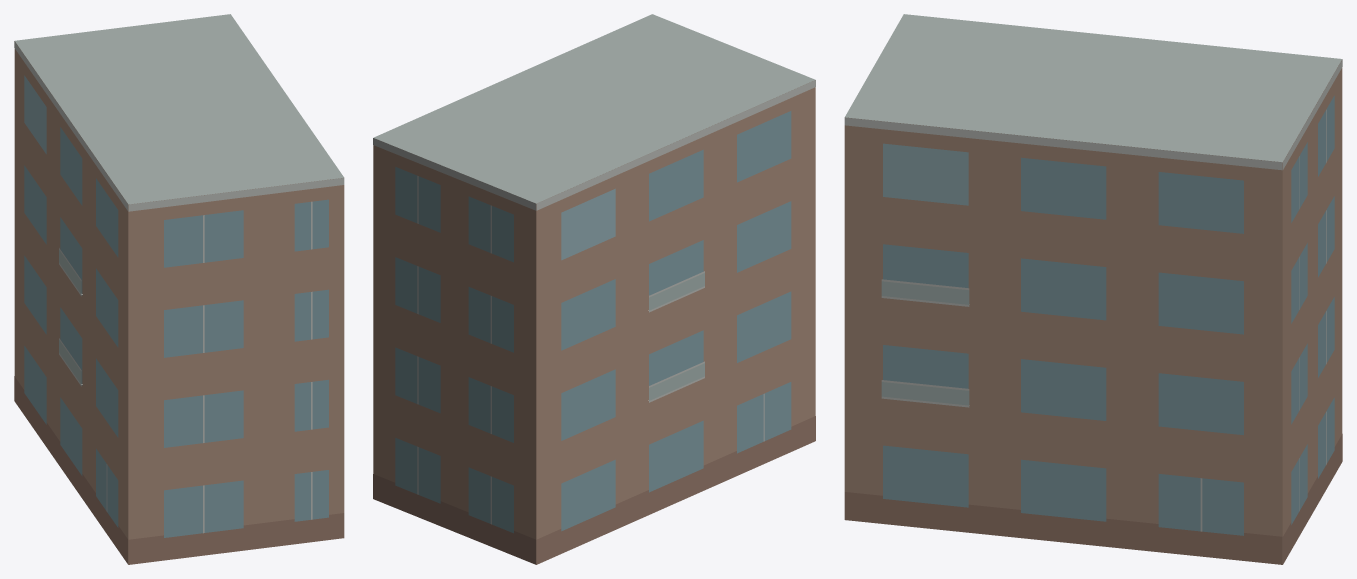
Rendered from residential-fcdb9212-4c65-4f26-8c0e-7613ed217f6e.glb.
3 renders of one model, left to right at view 1: azimuth 30°, elevation 25°; view 2: azimuth 150°, elevation 25°; view 3: azimuth 270°, elevation 25°, orthographic. The views are drawn at different scales.
Visible parts, largest first — view 1: residential-fcdb9212-4c65-4f26-8c0e-7613ed217f6e.tmp; view 2: residential-fcdb9212-4c65-4f26-8c0e-7613ed217f6e.tmp; view 3: residential-fcdb9212-4c65-4f26-8c0e-7613ed217f6e.tmp.
Boxes of the visible parts, x1,y1,x2,y2 form: residential-fcdb9212-4c65-4f26-8c0e-7613ed217f6e.tmp: (14,14,344,564); residential-fcdb9212-4c65-4f26-8c0e-7613ed217f6e.tmp: (373,14,815,564); residential-fcdb9212-4c65-4f26-8c0e-7613ed217f6e.tmp: (844,14,1342,564).
Size of the model in its own units: 9.64 by 12.2 by 13.68.
